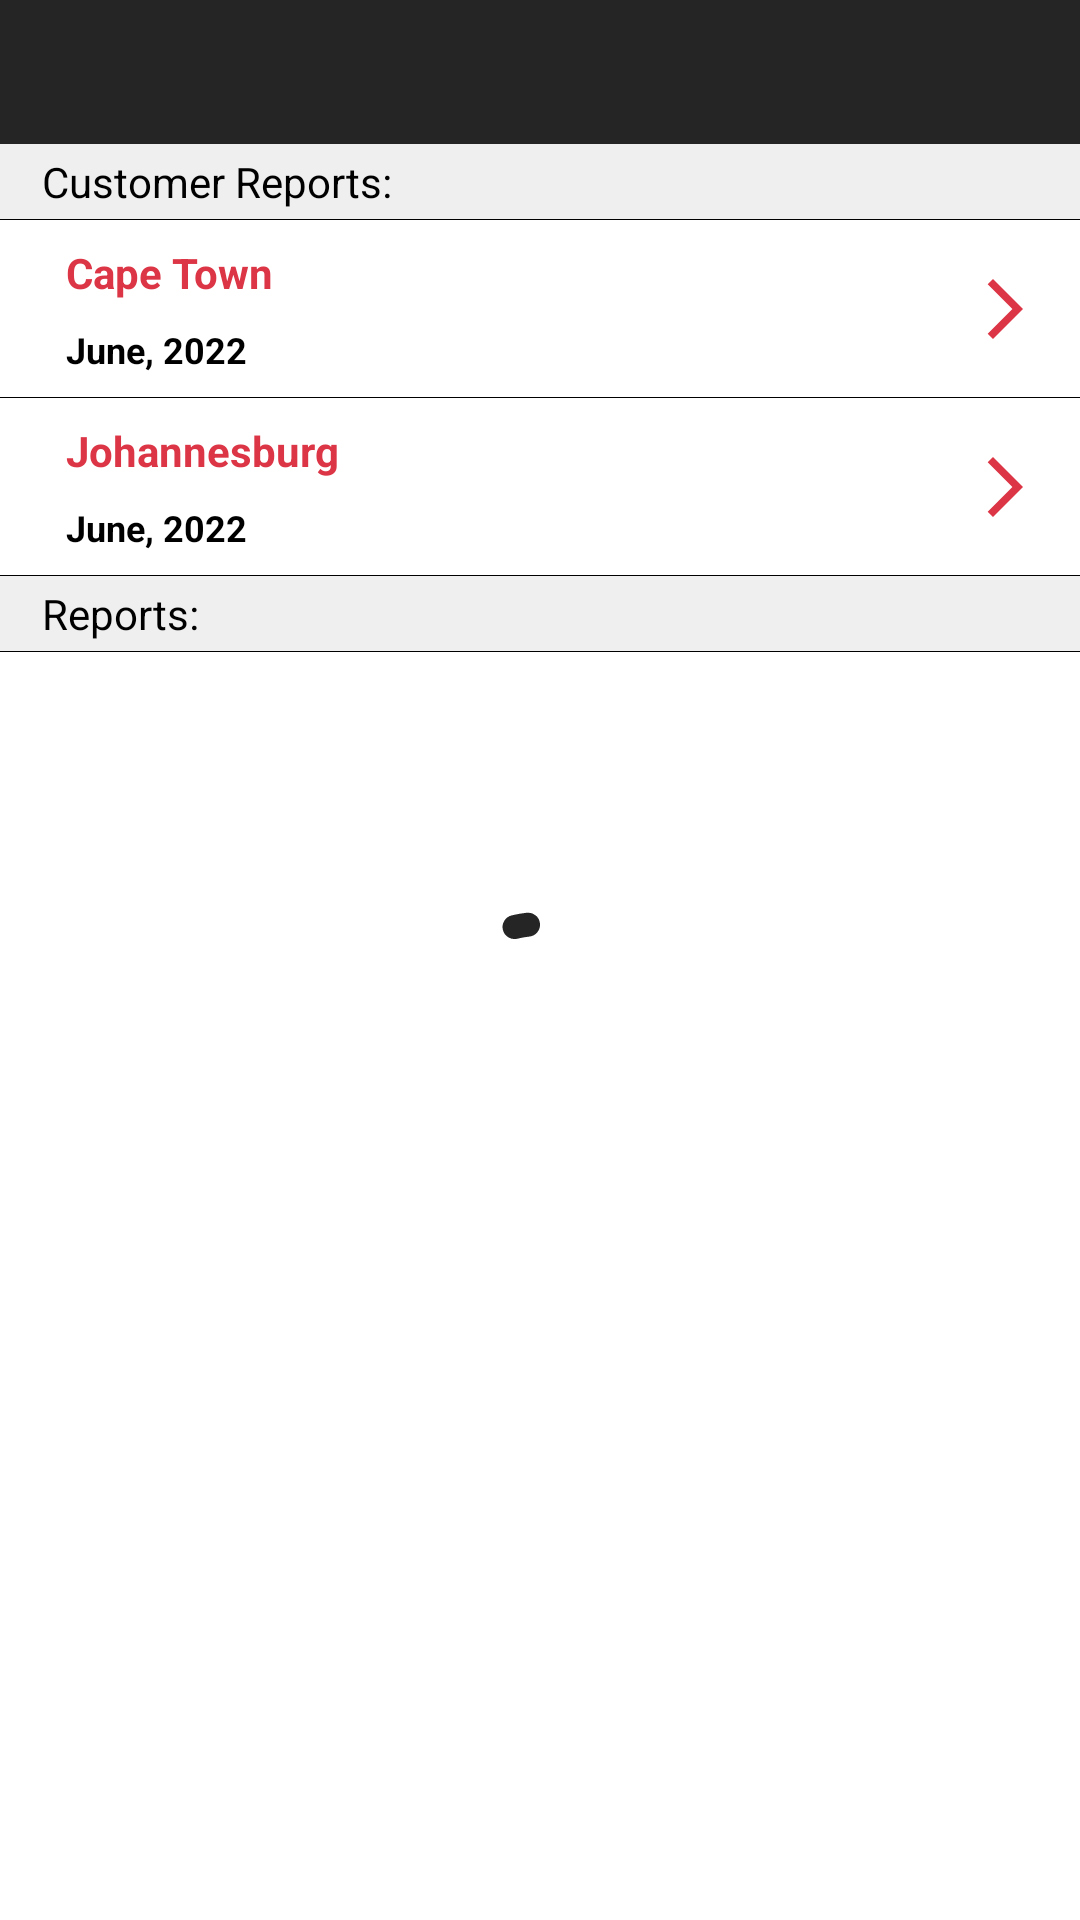

Where to tap for icons on this 1080px x 1920px app screen, as [x,y]:
arrow forward: [1005,309], [1005,487]
